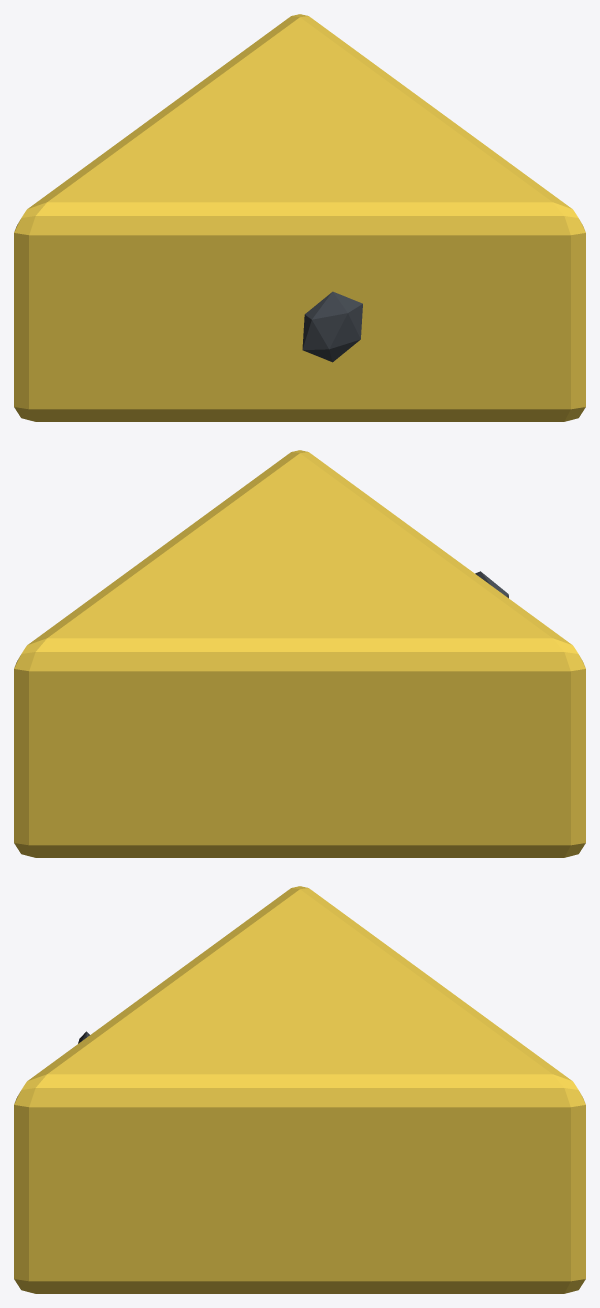
The model's file is Cheese.fbx.
The picture shows the model from 3 angles, top to bottom: view 1: azimuth 30°, elevation 25°; view 2: azimuth 150°, elevation 25°; view 3: azimuth 270°, elevation 25°; orthographic projection.
Visible parts, largest first — view 1: CheeseWedge, CheeseHole_0; view 2: CheeseWedge; view 3: CheeseWedge.
Part boxes in pixels (bbox=[...]): CheeseWedge: bbox=[14, 14, 585, 421]; CheeseHole_0: bbox=[302, 291, 362, 362]; CheeseWedge: bbox=[14, 450, 585, 857]; CheeseWedge: bbox=[14, 886, 585, 1293].
Size of the model in its own units: 0.7042 by 0.34 by 0.804.
